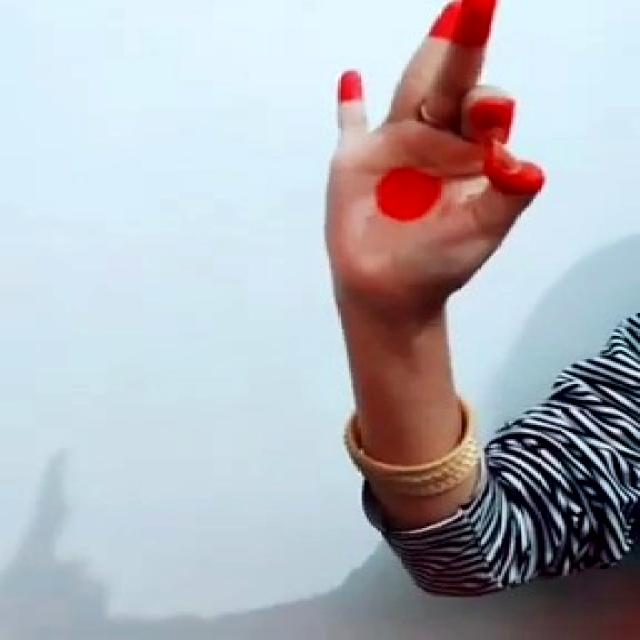Hamsasya: (322, 5, 558, 306)
bangle: (331, 403, 511, 502)
